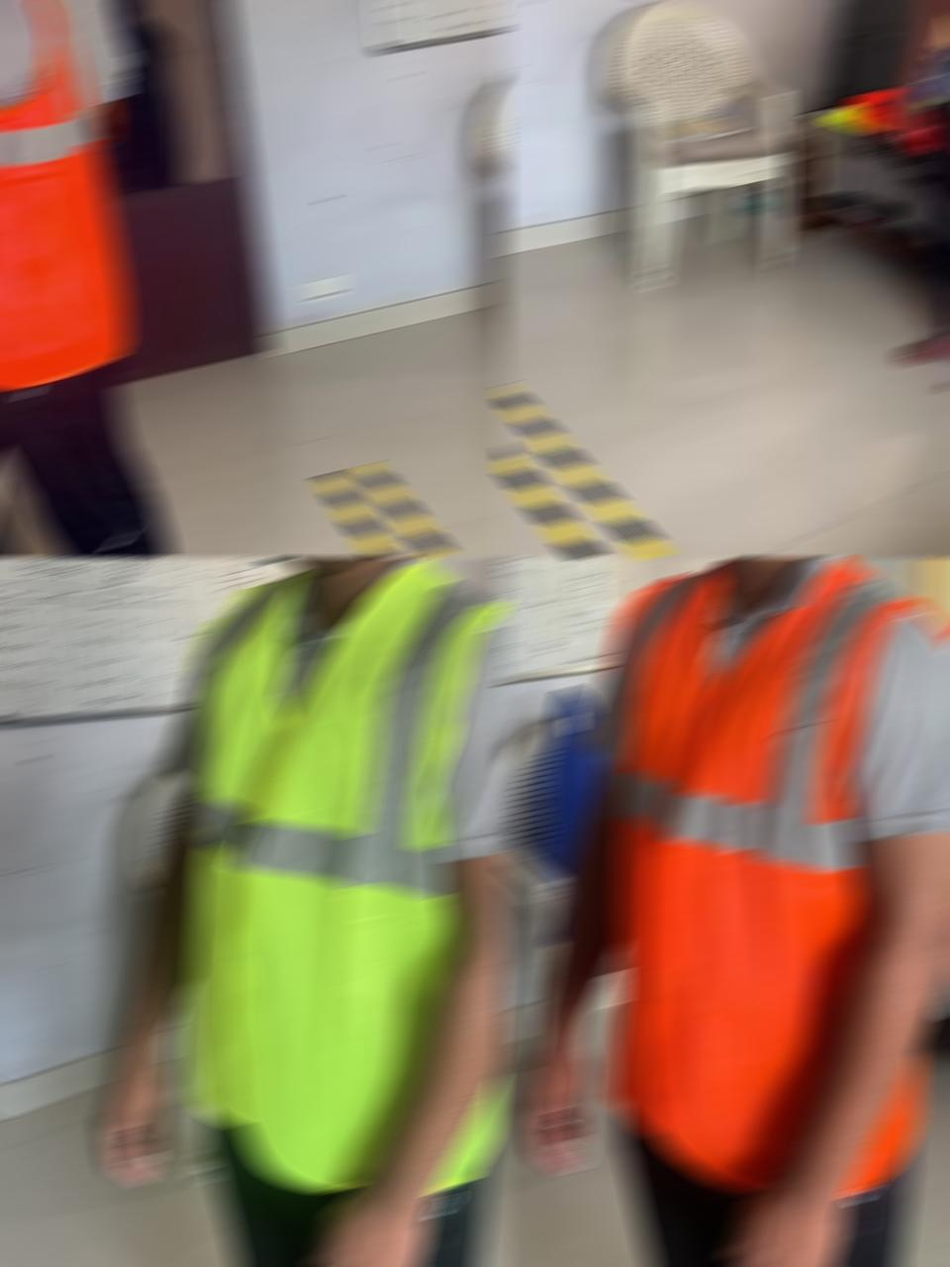BorderLine: (498, 382, 754, 556), (313, 462, 508, 556)
No_Vest: (922, 1, 950, 108)
Person: (515, 558, 950, 1266), (93, 558, 508, 1266), (0, 1, 194, 556), (887, 1, 950, 395)
Vest: (610, 558, 950, 1193), (183, 558, 508, 1191), (0, 1, 131, 389)
